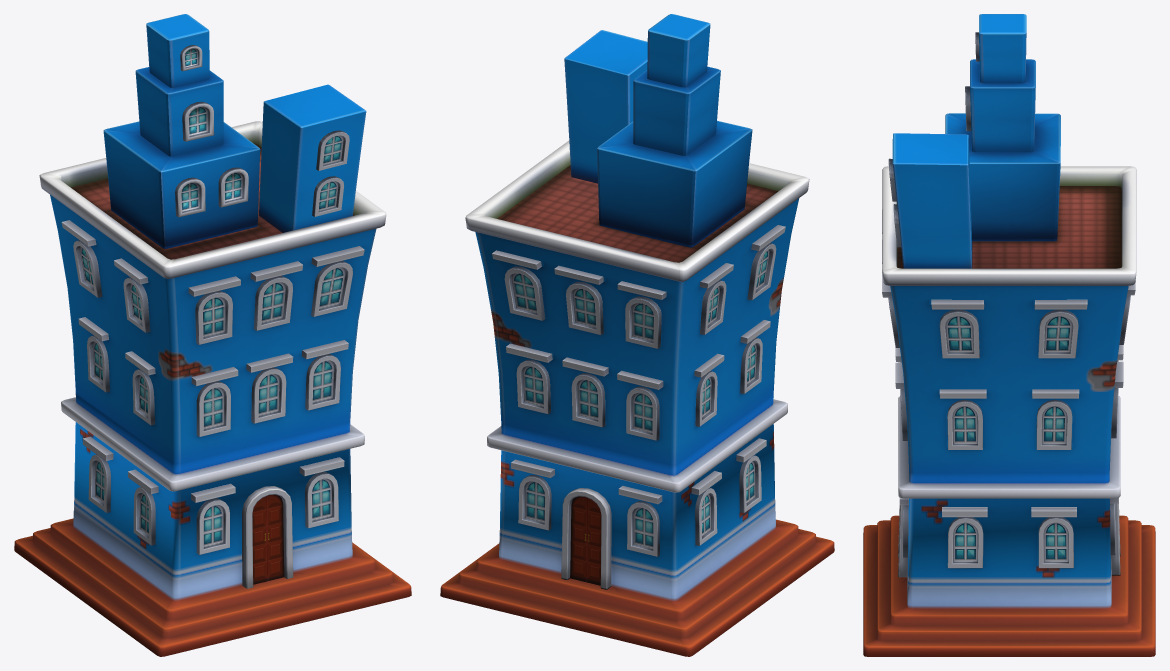
The model's file is NoAnim_Apartment_01.FBX.
3 views of the same model, side by side, from view 1: azimuth 30°, elevation 25°; view 2: azimuth 150°, elevation 25°; view 3: azimuth 270°, elevation 25° (orthographic).
Parts seen in each view (by area): view 1: NoAnim_Apartment_01; view 2: NoAnim_Apartment_01; view 3: NoAnim_Apartment_01.
Part boxes in pixels (x1=…): NoAnim_Apartment_01: x1=14, y1=14, x2=411, y2=656; NoAnim_Apartment_01: x1=440, y1=14, x2=834, y2=656; NoAnim_Apartment_01: x1=863, y1=14, x2=1155, y2=656.
Size of the model in its own units: 74.75 by 157 by 75.29.
